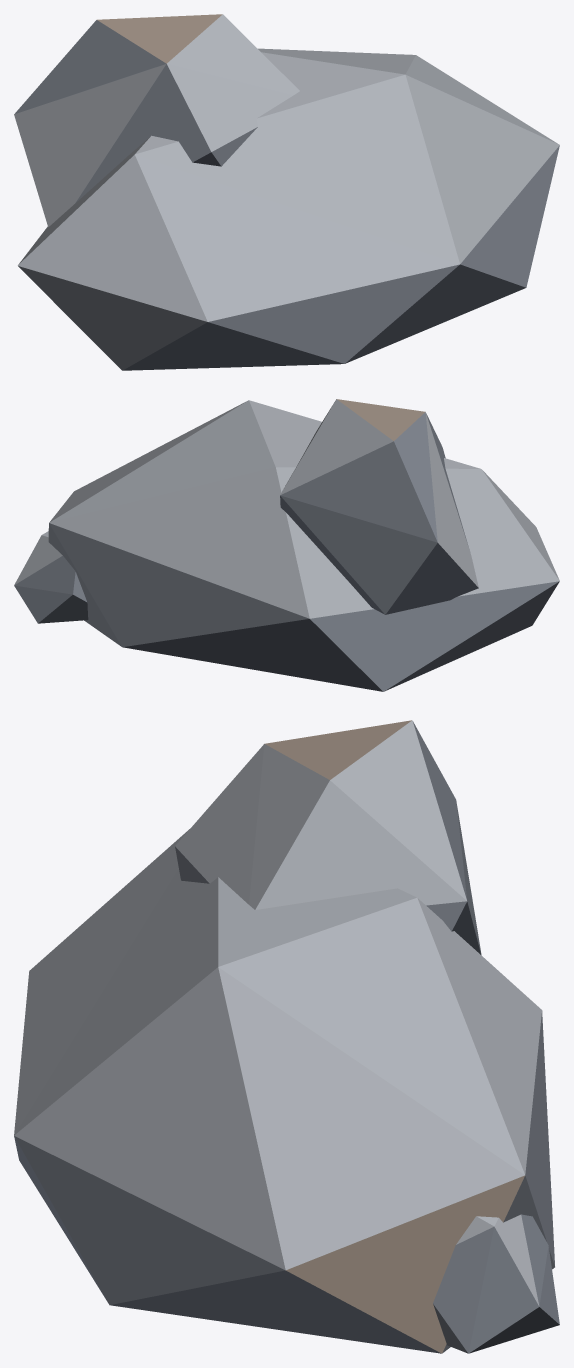
File: rock_m3.glb
3 renders of one model, top to bottom at view 1: azimuth 30°, elevation 25°; view 2: azimuth 150°, elevation 25°; view 3: azimuth 270°, elevation 25°, orthographic. The views are drawn at different scales.
Parts seen in each view (by area): view 1: Body; view 2: Body; view 3: Body.
Boxes of the visible parts, <box> form: Body: <box>14,14,559,370</box>; Body: <box>14,399,559,691</box>; Body: <box>14,720,559,1353</box>.
Bounding box in the file's own units: 2.21 × 1.03 × 1.36.
